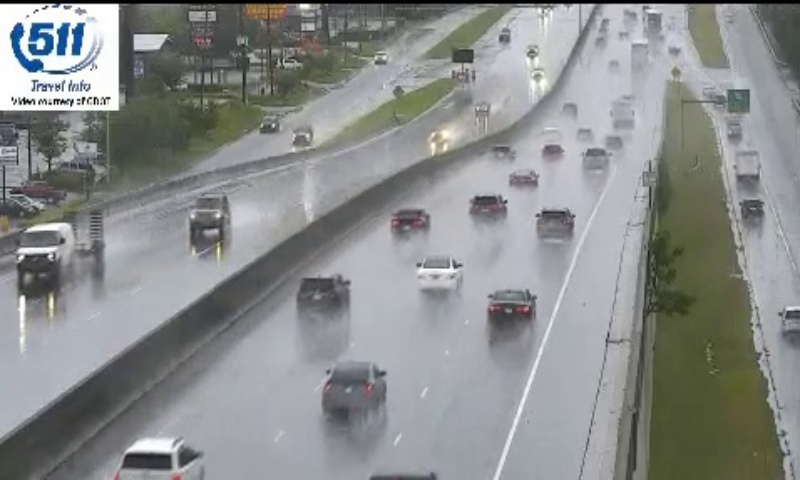car: (113, 436, 204, 480), (321, 361, 384, 409), (296, 274, 349, 312), (487, 287, 535, 325), (416, 257, 461, 291), (535, 205, 574, 238), (389, 207, 430, 236), (470, 194, 507, 222)
